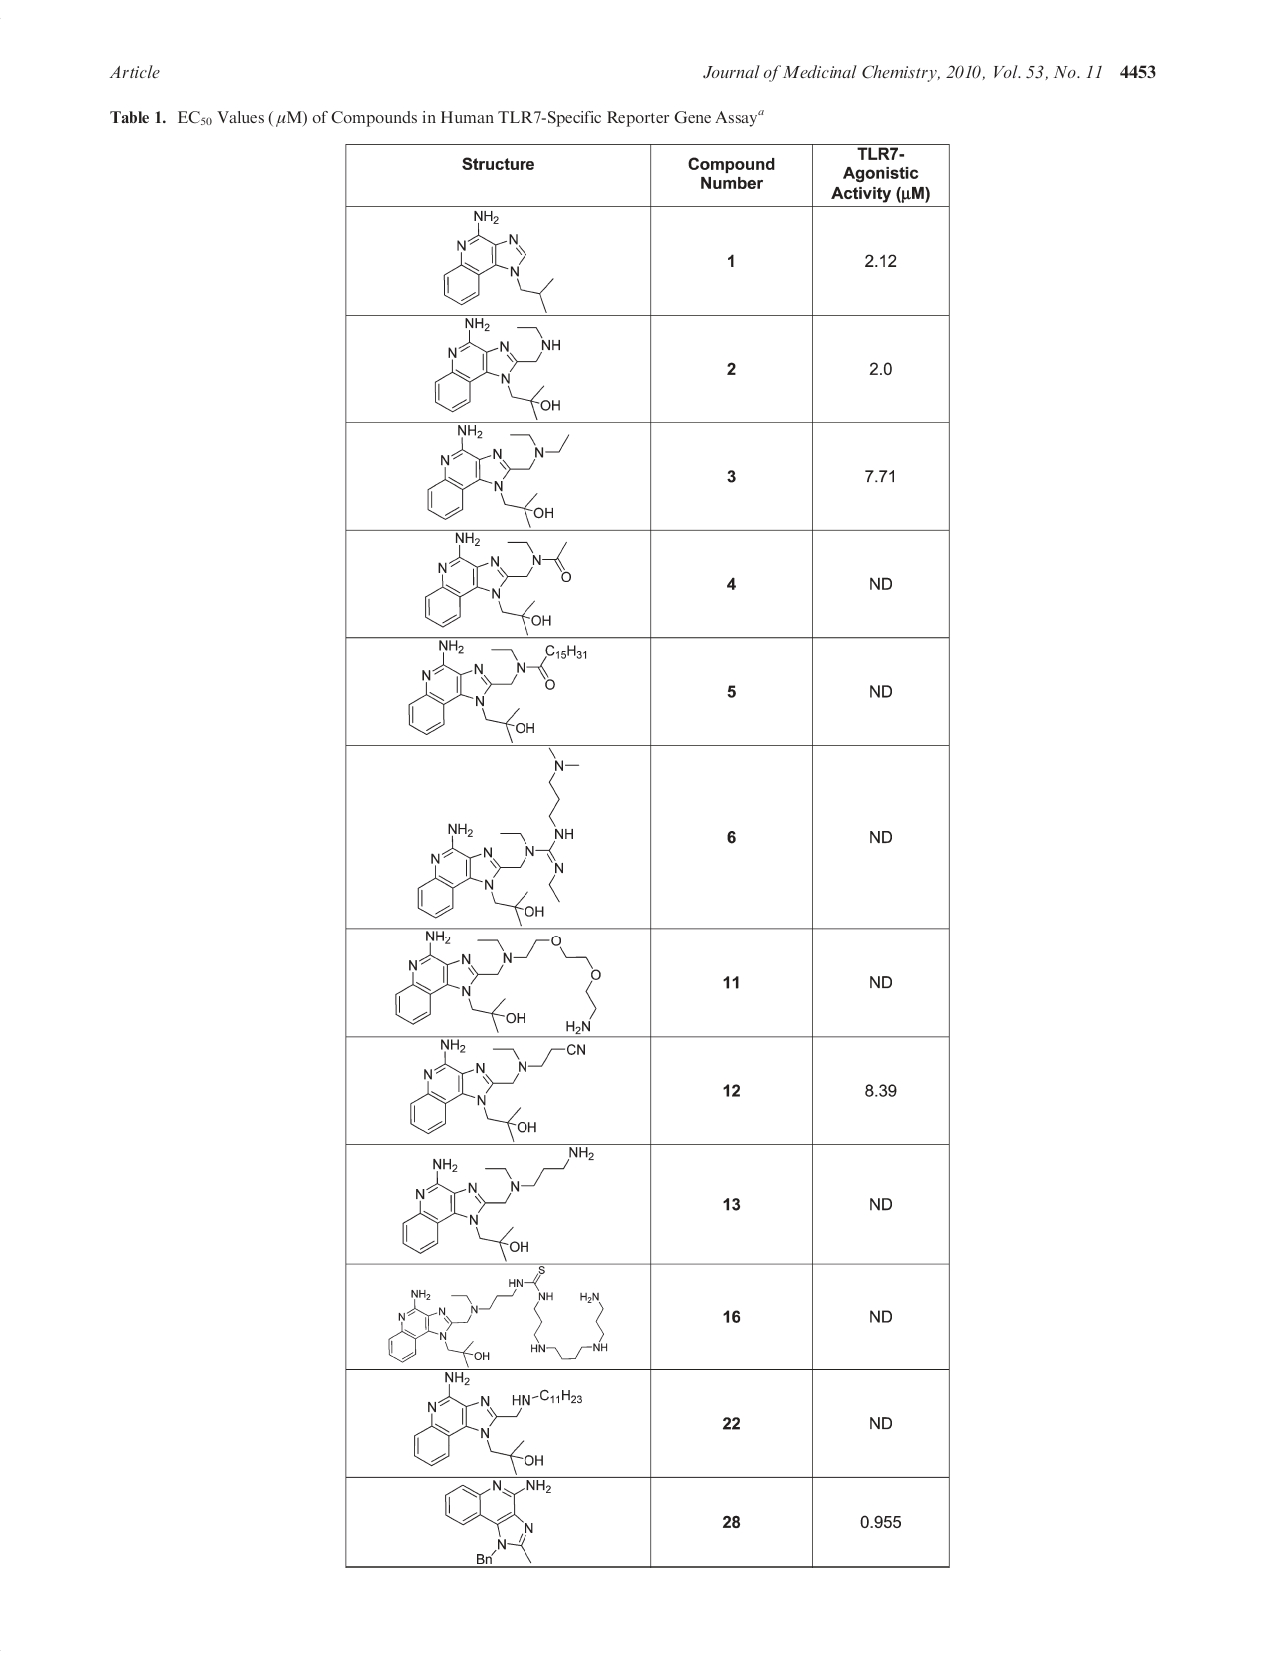exist_molecular: (418, 747, 581, 927), (387, 1266, 609, 1368), (402, 1146, 594, 1263), (394, 930, 601, 1035), (408, 638, 588, 743), (410, 1039, 586, 1142), (414, 1371, 582, 1475), (426, 531, 572, 634), (426, 426, 570, 528), (434, 318, 563, 422), (442, 209, 556, 313), (444, 1479, 553, 1564)
